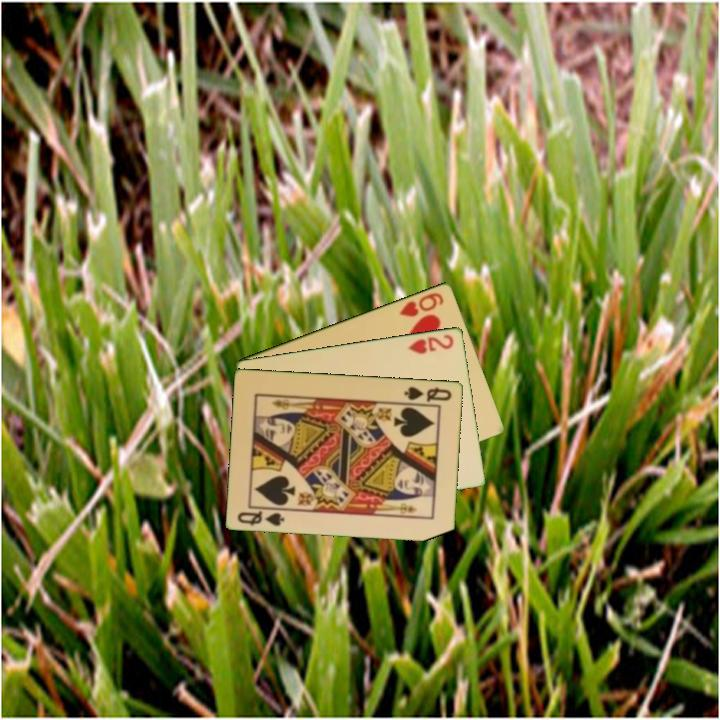2h: (405, 331, 457, 356)
6h: (396, 289, 447, 319)
Qs: (234, 504, 289, 529), (401, 383, 455, 404)
